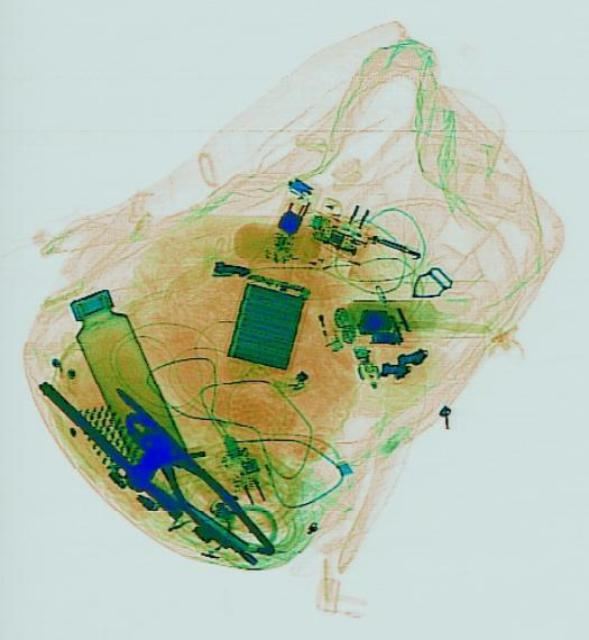Pliers: (112, 397, 278, 577)
